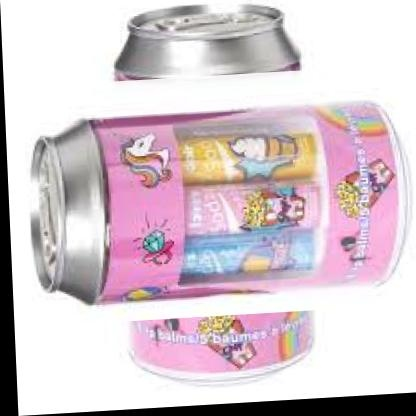trash: (31, 102, 406, 302), (115, 4, 299, 79), (130, 311, 312, 379)
